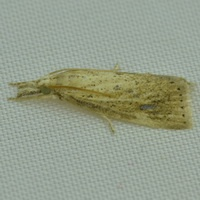insect: (9, 65, 194, 132)
